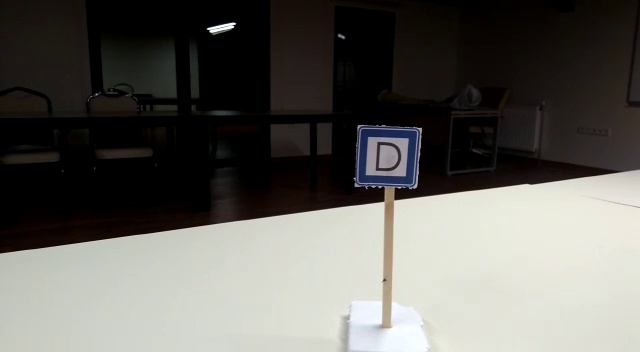durak: (354, 128, 420, 185)
